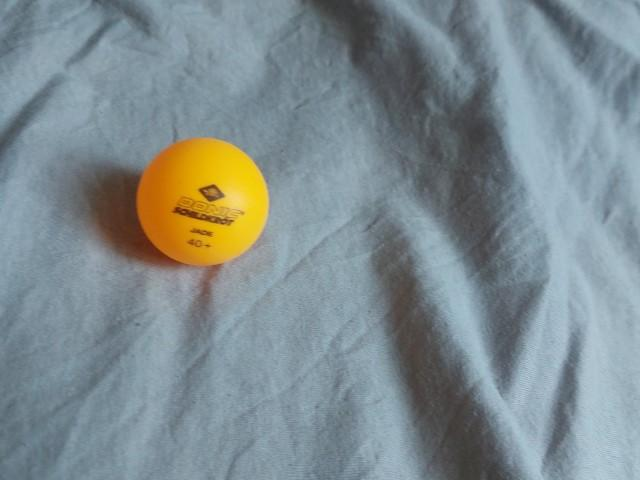oball: (128, 132, 276, 275)
